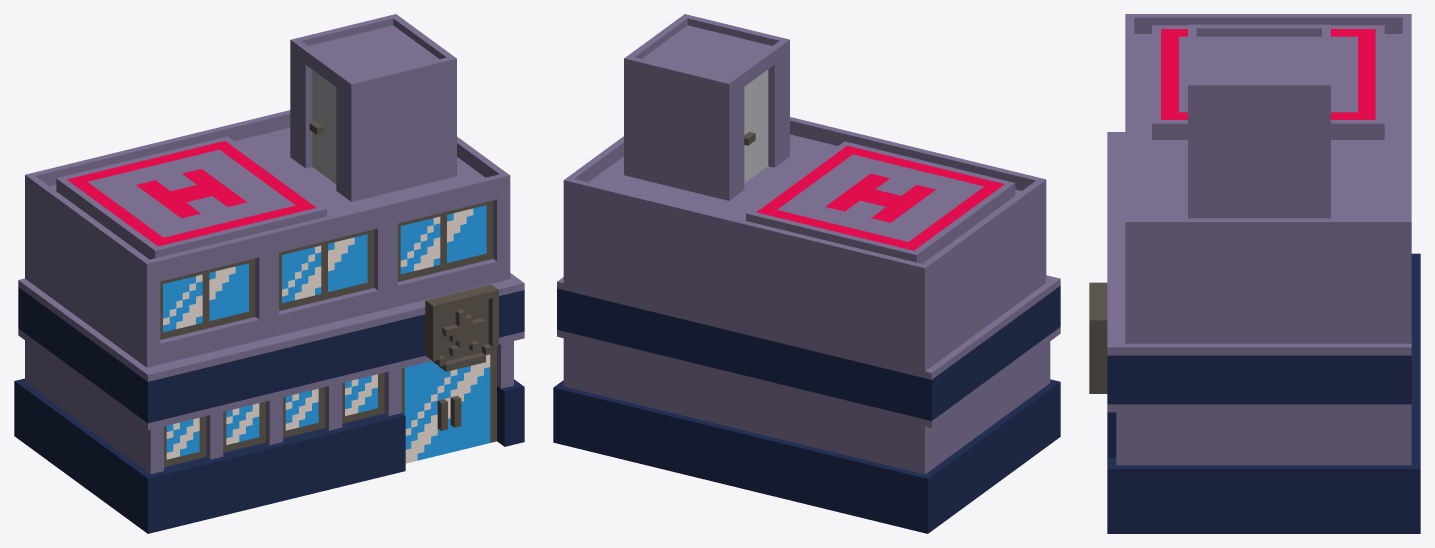
Rendered from police_office_b.obj.
3 views of the same model, side by side, from view 1: azimuth 30°, elevation 25°; view 2: azimuth 150°, elevation 25°; view 3: azimuth 270°, elevation 25° (orthographic). The views are drawn at different scales.
Bounding box in the file's own units: 5.7 × 5.3 × 3.7.
Materials: 1 (1 with a texture image).
